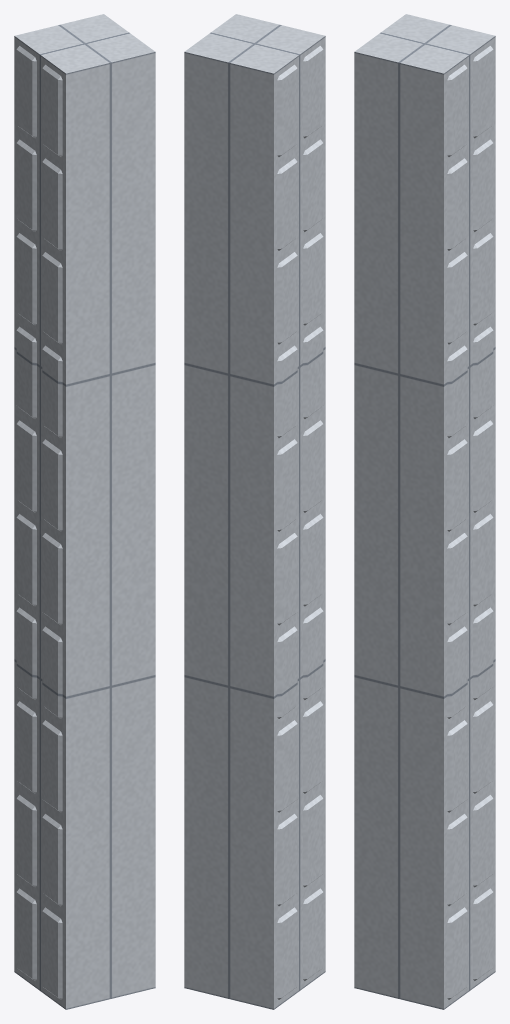
File: Kit_Steel_Joint.fbx
3 views of the same model, side by side, from view 1: azimuth 30°, elevation 25°; view 2: azimuth 150°, elevation 25°; view 3: azimuth 330°, elevation 25° (orthographic).
Parts seen in each view (by area): view 1: Kit_Steel_Joint_LOD0; view 2: Kit_Steel_Joint_LOD0; view 3: Kit_Steel_Joint_LOD0.
Part boxes in pixels (left/top/right/bottom): Kit_Steel_Joint_LOD0: left=14, top=14, right=155, bottom=1009; Kit_Steel_Joint_LOD0: left=184, top=14, right=325, bottom=1009; Kit_Steel_Joint_LOD0: left=354, top=14, right=495, bottom=1009.
Size of what is drawn, in the model's own units: 0.32 by 3 by 0.3.
